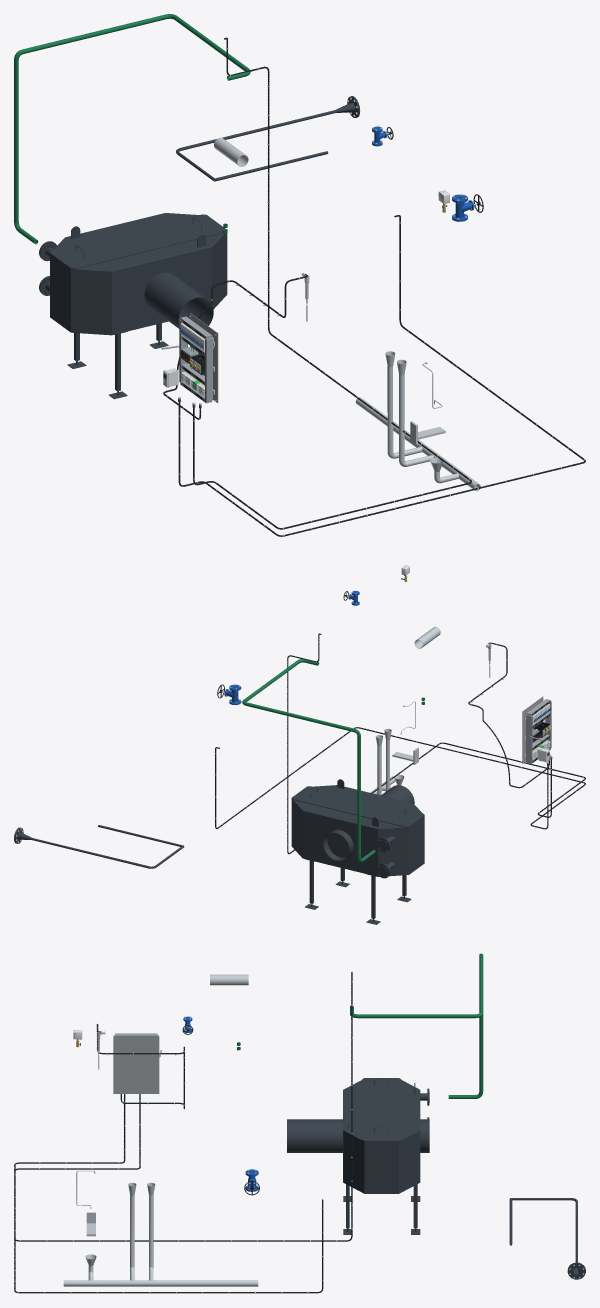
3 views of the same model, one above another, from view 1: azimuth 30°, elevation 25°; view 2: azimuth 150°, elevation 25°; view 3: azimuth 270°, elevation 25° (orthographic). The views are drawn at different scales.
Parts seen in each view (by area): view 1: EQS2-1500 CAD 3, EQS2-1500 CAD 0, cabinet_interior / cabinet_interior_0.npz, local_open_drains / steel, EQS2-1500 CAD 1, from_economizer / green, flue_spacer / dark, mod_eco_drive_cable / black, wiring_pump_2 / black, tds_to_fv / dark; view 2: EQS2-1500 CAD 3, EQS2-1500 CAD 0, cabinet_interior / cabinet_interior_0.npz, EQS2-1500 CAD 2, from_economizer / green, wiring_pump_2 / black, mod_eco_drive_cable / black, local_open_drains / steel, tds_to_fv / dark; view 3: EQS2-1500 CAD 3, cabinet_interior / cabinet_interior_0.npz, local_open_drains / steel, mod_eco_drive_cable / black, flue_spacer / dark, from_economizer / green, EQS2-1500 CAD 0, wiring_pump_2 / black, tds_to_fv / dark, wiring_lp200 / black, gpz_bypass / steel.
Boxes of the visible parts, left/top/right/bottom form: EQS2-1500 CAD 3: left=50, top=213, right=227, bottom=332; EQS2-1500 CAD 0: left=67, top=247, right=212, bottom=399; cabinet_interior / cabinet_interior_0.npz: left=161, top=313, right=218, bottom=403; local_open_drains / steel: left=355, top=351, right=480, bottom=491; EQS2-1500 CAD 1: left=71, top=269, right=111, bottom=335; from_economizer / green: left=14, top=14, right=250, bottom=244; flue_spacer / dark: left=150, top=276, right=213, bottom=328; mod_eco_drive_cable / black: left=193, top=37, right=471, bottom=529; wiring_pump_2 / black: left=178, top=215, right=585, bottom=536; tds_to_fv / dark: left=176, top=96, right=359, bottom=181; EQS2-1500 CAD 3: left=291, top=779, right=424, bottom=874; EQS2-1500 CAD 0: left=302, top=811, right=411, bottom=924; cabinet_interior / cabinet_interior_0.npz: left=522, top=696, right=551, bottom=763; EQS2-1500 CAD 2: left=376, top=827, right=408, bottom=878; from_economizer / green: left=242, top=659, right=375, bottom=862; wiring_pump_2 / black: left=215, top=727, right=585, bottom=829; mod_eco_drive_cable / black: left=287, top=633, right=585, bottom=854; local_open_drains / steel: left=370, top=728, right=404, bottom=795; tds_to_fv / dark: left=14, top=827, right=184, bottom=868; EQS2-1500 CAD 3: left=343, top=1078, right=420, bottom=1193; cabinet_interior / cabinet_interior_0.npz: left=113, top=1033, right=161, bottom=1093; local_open_drains / steel: left=63, top=1182, right=258, bottom=1286; mod_eco_drive_cable / black: left=14, top=972, right=352, bottom=1241; flue_spacer / dark: left=287, top=1119, right=333, bottom=1152; from_economizer / green: left=350, top=953, right=483, bottom=1098; EQS2-1500 CAD 0: left=334, top=1090, right=429, bottom=1234; wiring_pump_2 / black: left=14, top=1094, right=323, bottom=1293; tds_to_fv / dark: left=511, top=1198, right=585, bottom=1279; wiring_lp200 / black: left=96, top=1024, right=184, bottom=1109; gpz_bypass / steel: left=210, top=974, right=248, bottom=985.
Size of the model in its own units: 4.54 by 3.32 by 6.08.
